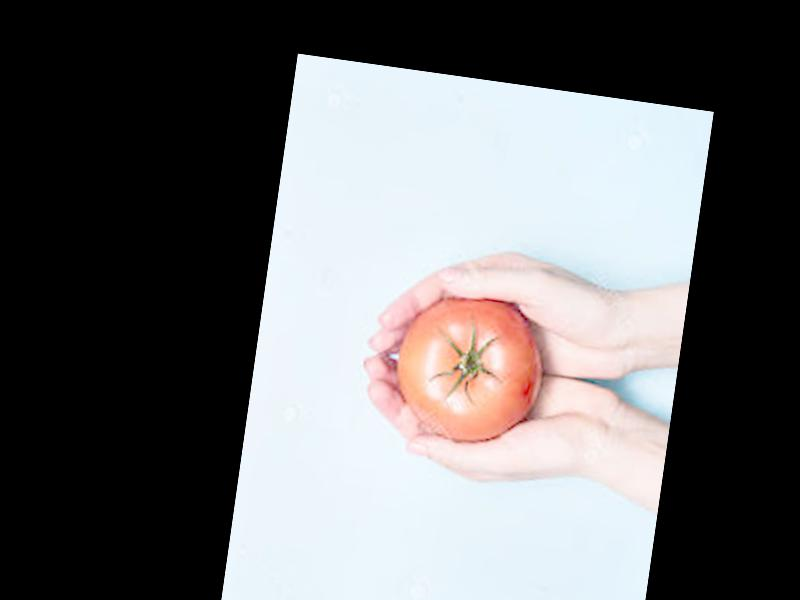Tomato: (388, 284, 550, 450)
